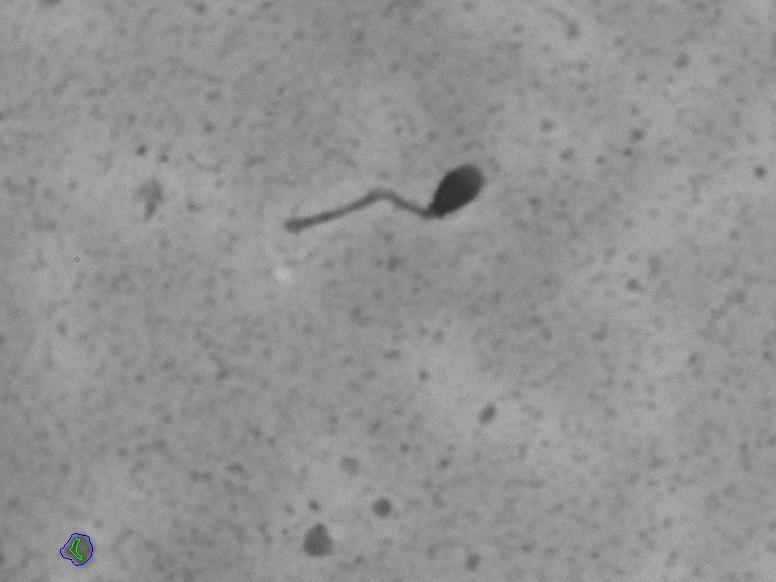Abnormal: (217, 116, 532, 290)
